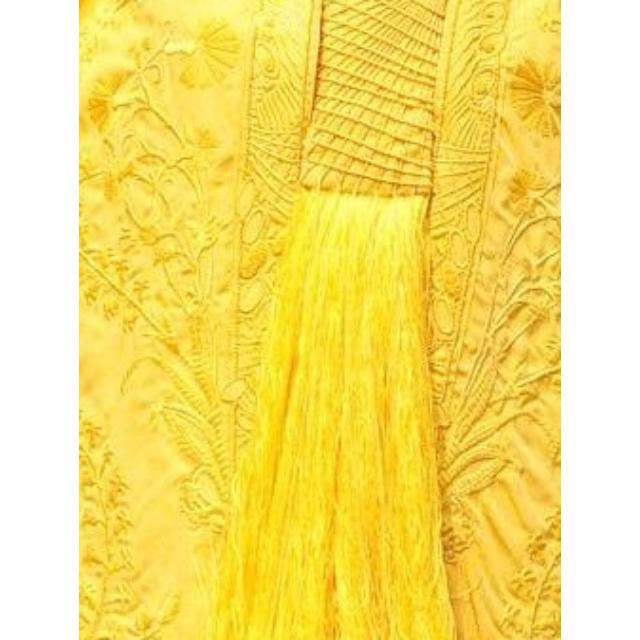silk: (79, 0, 561, 640)
